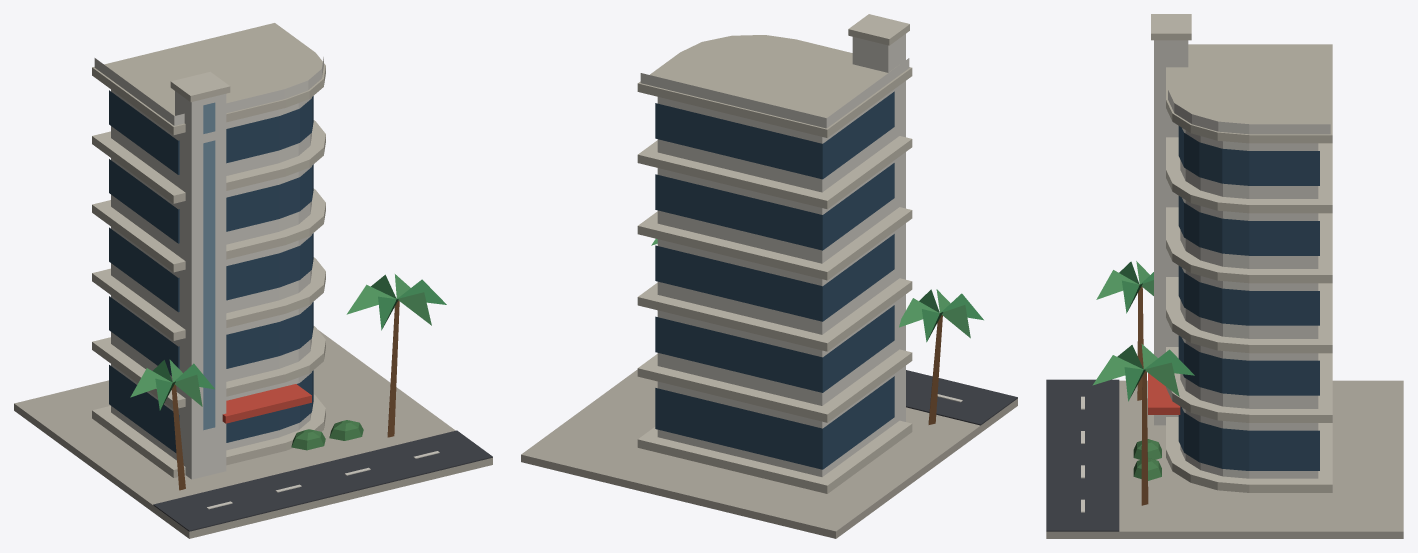
The model's file is bauhaus.glb.
3 renders of one model, left to right at view 1: azimuth 30°, elevation 25°; view 2: azimuth 150°, elevation 25°; view 3: azimuth 270°, elevation 25°, orthographic. The views are drawn at different scales.
Visible parts, largest first — view 1: bauhaus; view 2: bauhaus; view 3: bauhaus.
Boxes of the visible parts, bbox=[...] form: bauhaus: bbox=[14, 23, 492, 538]; bauhaus: bbox=[521, 14, 1017, 538]; bauhaus: bbox=[1046, 14, 1403, 538].
Bounding box in the file's own units: 1.8 × 2.17 × 1.76.
